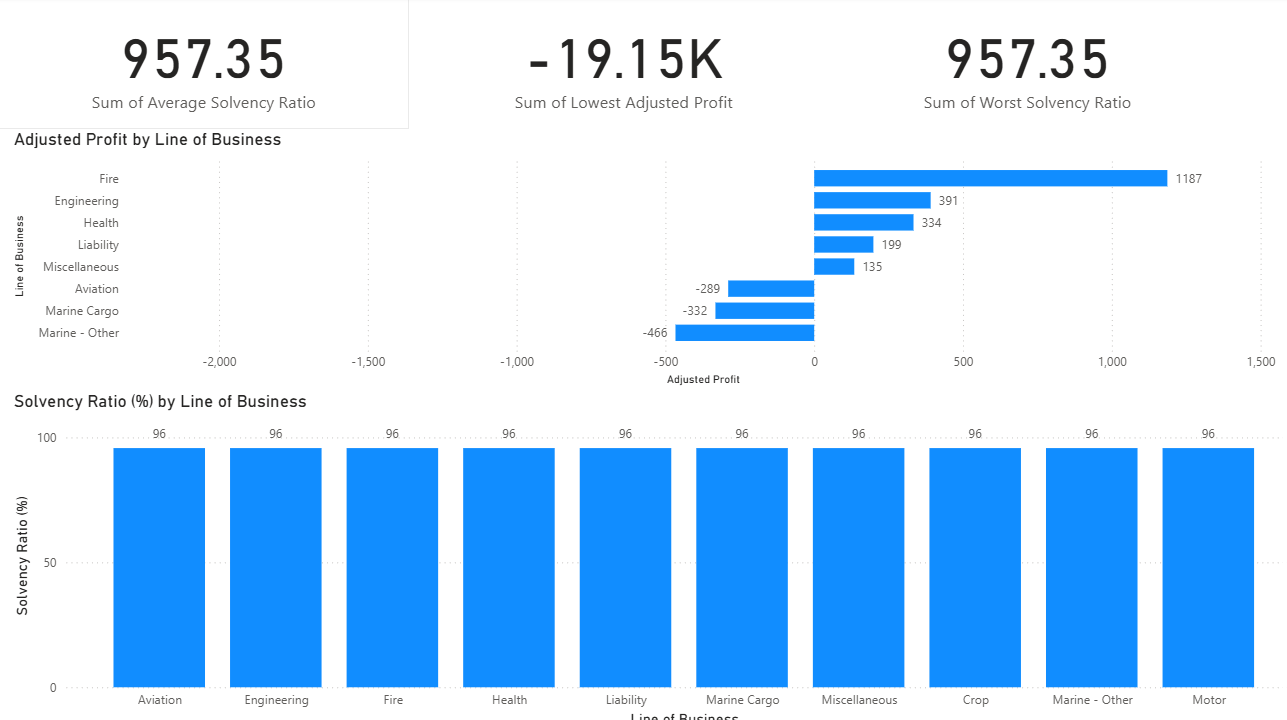

The page's visual inventory and layout, read from the dashboard file:
{"tool":"powerbi","page":{"name":"Stress Test Simulator","canvas":[1280,720],"ordinal":2},"visuals":[{"type":"clusteredBarChart","fields":{"Category":["GLC.Line of Business"],"Y":["GLC.Adjusted Profit"]},"box":[9.8,129.6,1270.5,256.8],"z":0},{"type":"clusteredColumnChart","fields":{"Category":["GLC.Line of Business"],"Y":["GLC.Solvency Ratio (%)"]},"box":[9.8,386.4,1270.5,333.8],"z":1000},{"type":"card","fields":{"Values":["Sum(GLC.Worst Solvency Ratio)"]},"box":[785.1,0,442.7,129.6],"z":2000},{"type":"card","fields":{"Values":["Sum(GLC.Lowest Adjusted Profit)"]},"box":[452.4,0,317.9,129.6],"z":3000},{"type":"card","fields":{"Values":["Sum(GLC.Average Solvency Ratio)"]},"box":[0,0,401.1,129.6],"z":4000}]}

Visuals, with their boxes in screenshot pixels (x1, y1, x2, y2), scaled from the page's 1280x720 canvas onto the 1287x720 screenshot:
clusteredBarChart - GLC.Line of Business x GLC.Adjusted Profit: 10 130 1286 386
clusteredColumnChart - GLC.Line of Business x GLC.Solvency Ratio (%): 10 386 1286 719
card - Sum(GLC.Worst Solvency Ratio): 789 0 1235 130
card - Sum(GLC.Lowest Adjusted Profit): 455 0 775 130
card - Sum(GLC.Average Solvency Ratio): 0 0 403 130
